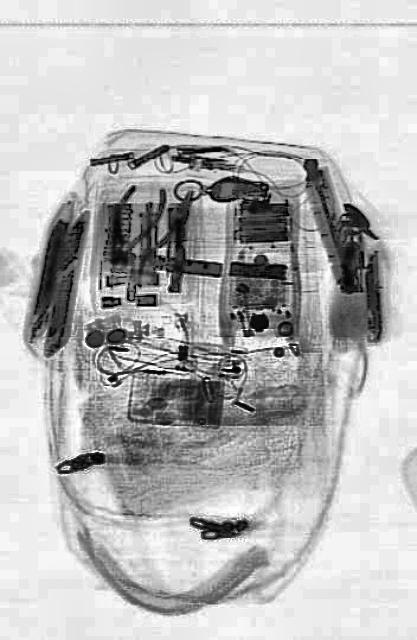Pliers: (130, 174, 206, 308), (92, 166, 170, 294)
